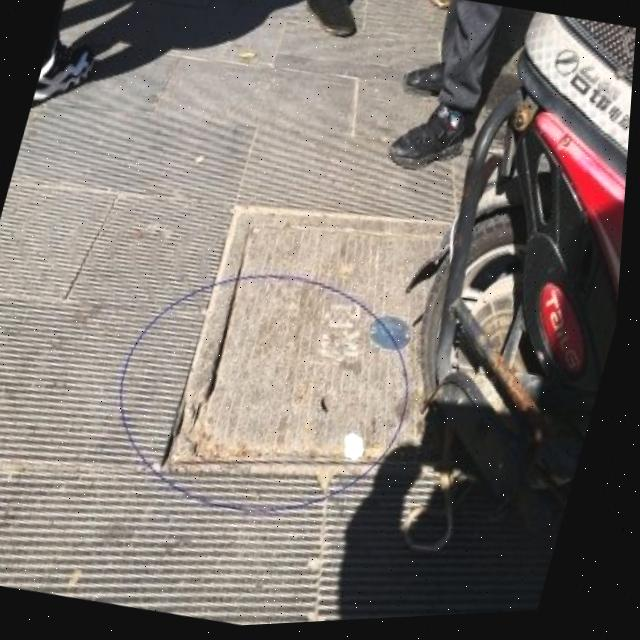manhole: (142, 176, 480, 520)
